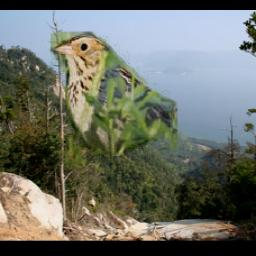Sparrow: (52, 32, 179, 169)
